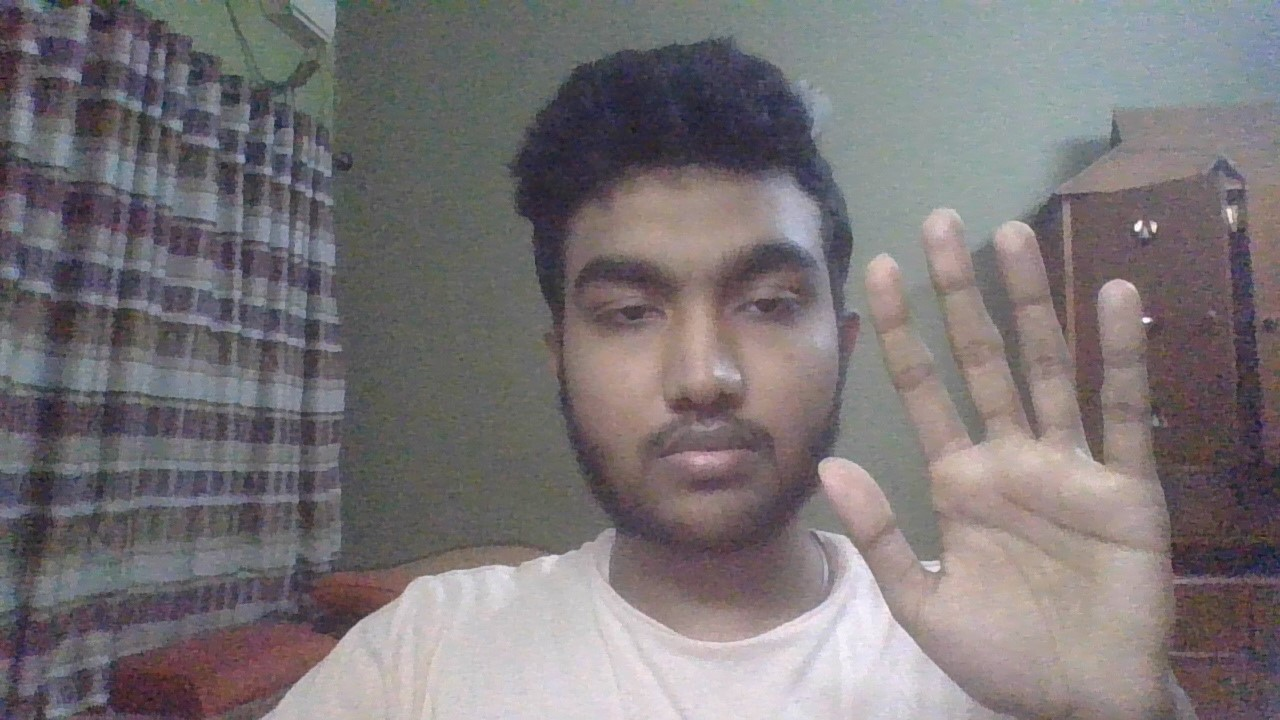Hello: (815, 194, 1194, 708)
